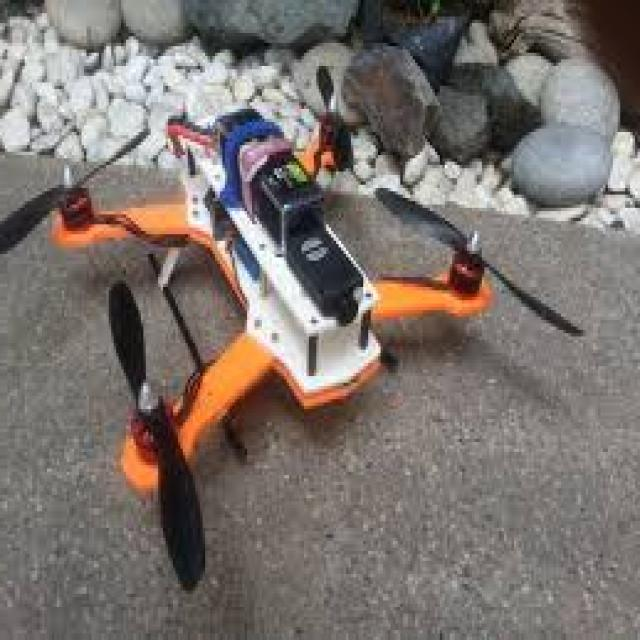drone: (0, 73, 556, 554)
